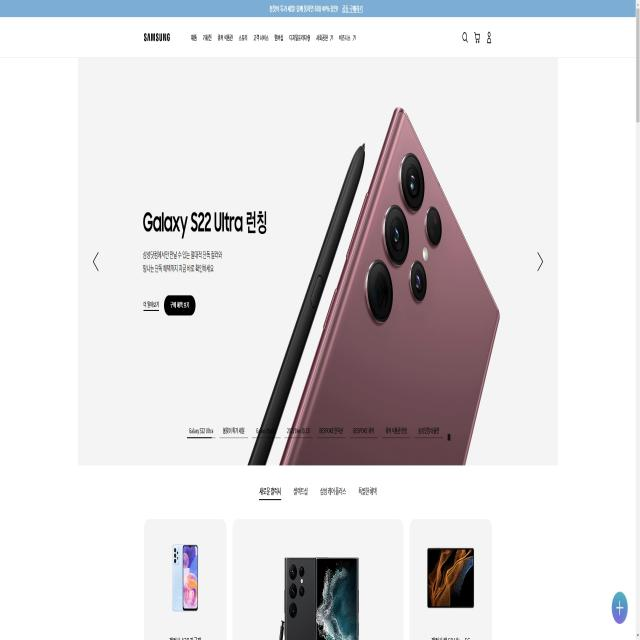menu-bar: (454, 23, 496, 50)
tab-bar: (188, 25, 362, 56), (250, 474, 382, 512)
